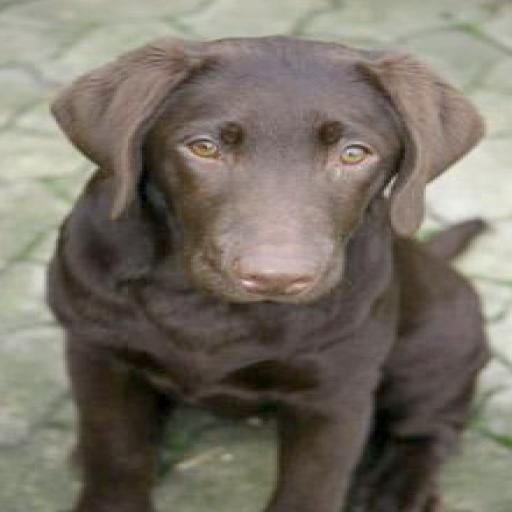dog_face: (80, 32, 462, 297)
